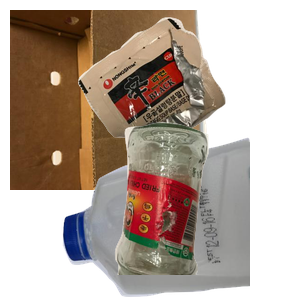cardboard: (10, 10, 211, 190)
glass: (112, 120, 300, 300)
plastic: (60, 135, 300, 300)
trash: (76, 15, 300, 145)
